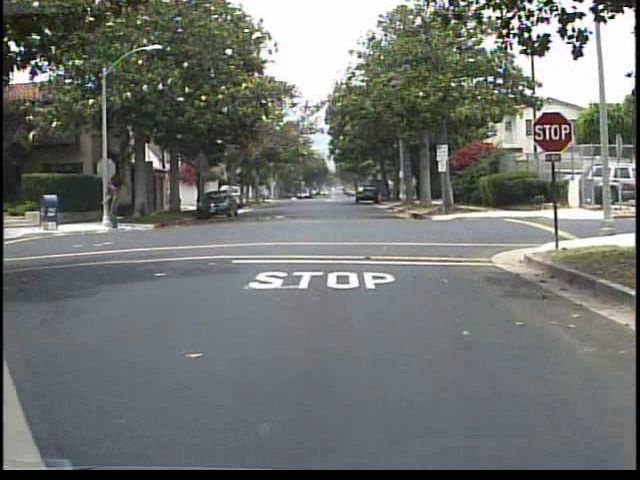person: (100, 173, 128, 233)
